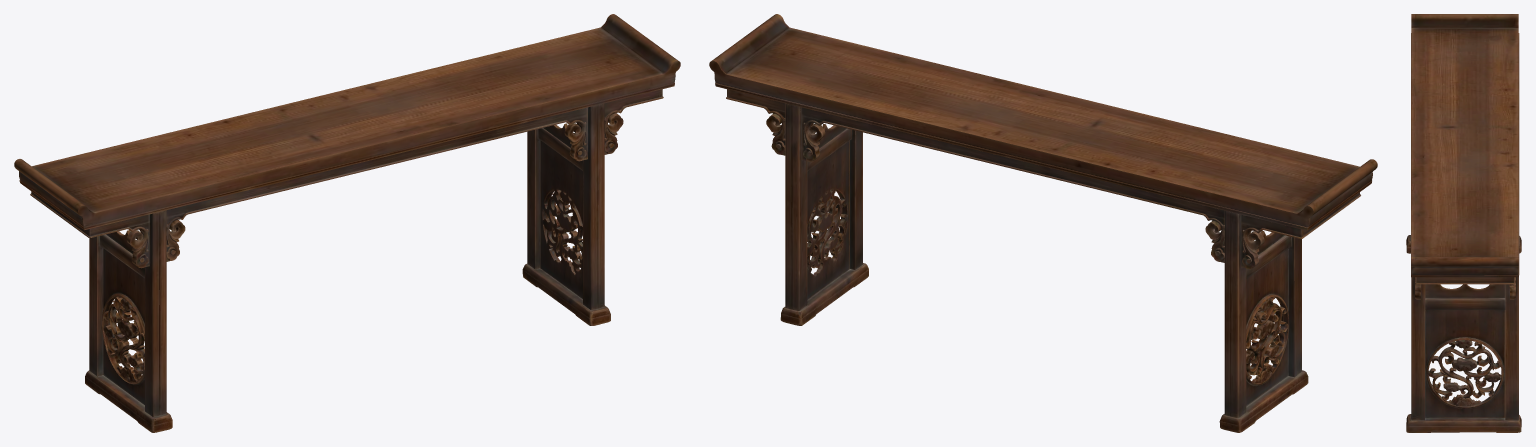
Rendered from chinese_console_table.glb.
The picture shows the model from 3 angles, left to right: view 1: azimuth 30°, elevation 25°; view 2: azimuth 150°, elevation 25°; view 3: azimuth 270°, elevation 25°; orthographic projection. The views are drawn at different scales.
Parts seen in each view (by area): view 1: chinese_console_table; view 2: chinese_console_table; view 3: chinese_console_table.
Part boxes in pixels (x1,y1,x2,y2): chinese_console_table: (14,14,680,432); chinese_console_table: (709,14,1377,432); chinese_console_table: (1406,14,1521,432).
Size of the model in its own units: 1.72 by 0.6607 by 0.3388.
1 material, 1 textured.
